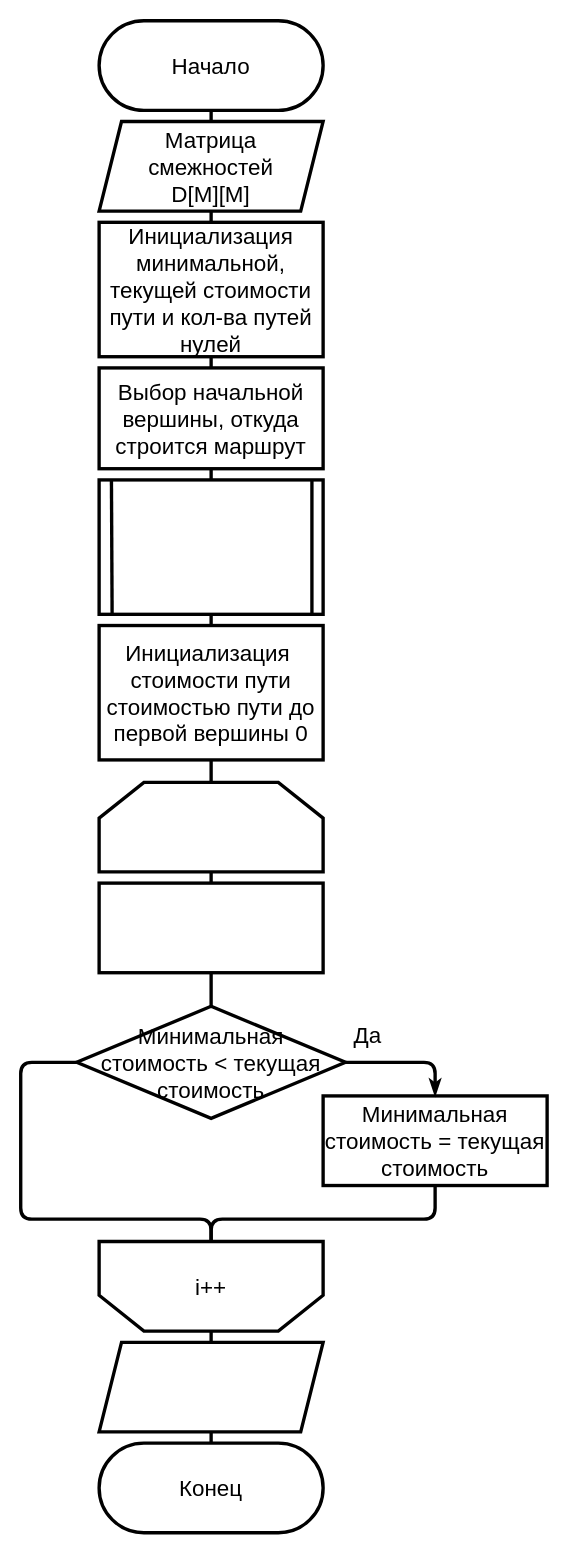
This 568x1553 diagram has some shape labels left out. Each missing label, with the box of its shape:
Вызов подпрограммы для получения всех возможных путей: (97, 478, 324, 615)
Минимальная стоимость, короткий путь: (97, 1340, 324, 1433)
Текущая стоимость = стоимость i-ого пути: (97, 881, 324, 974)
Цикл i = 1; i < кол-во возможных путей: (97, 780, 324, 873)
